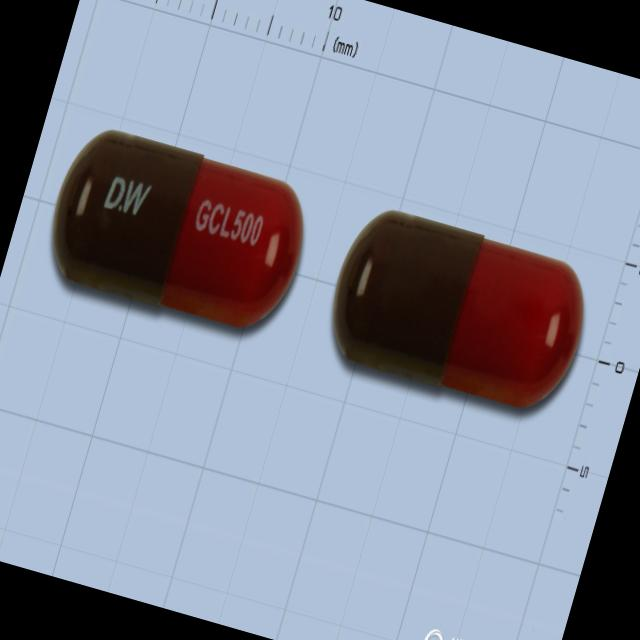Gomcillin Cap: (34, 116, 321, 347)
